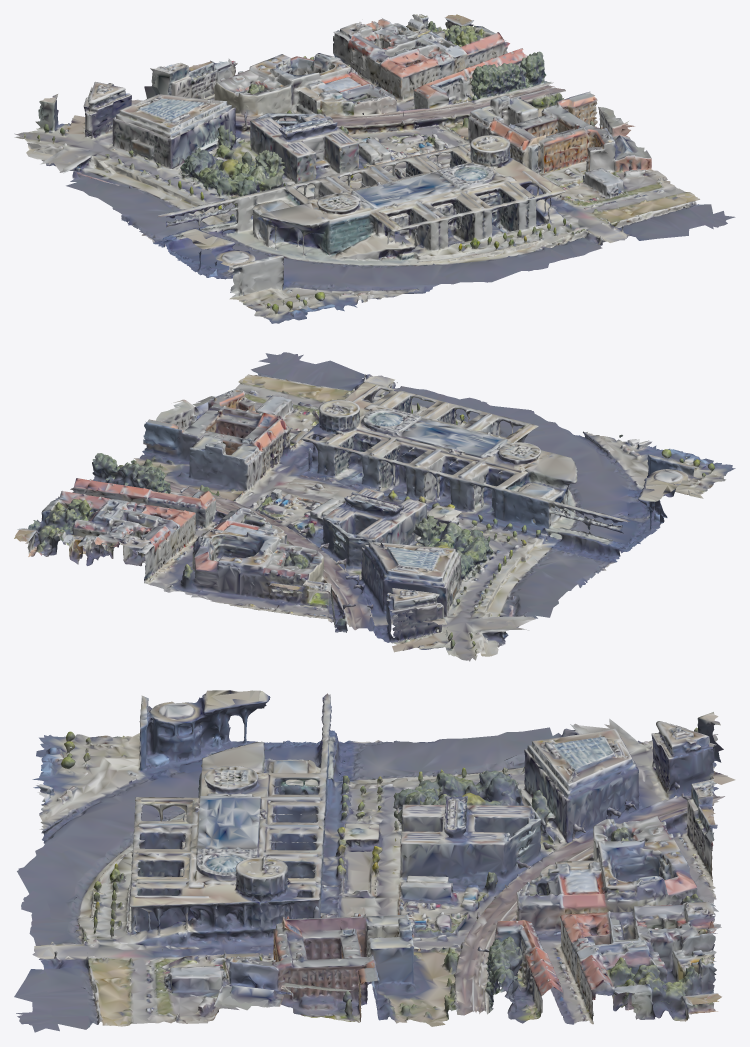
File: surface-detail-3898_58200.glb
3 views of the same model, one above another, from view 1: azimuth 30°, elevation 25°; view 2: azimuth 150°, elevation 25°; view 3: azimuth 270°, elevation 25° (orthographic). The views are drawn at different scales.
Parts seen in each view (by area): view 1: world; view 2: world; view 3: world.
Boxes of the visible parts, x1,y1,x2,y2 form: world: [14, 14, 735, 323]; world: [14, 352, 735, 661]; world: [14, 690, 735, 1032].
Size of the model in its own units: 389 by 46.17 by 390.
